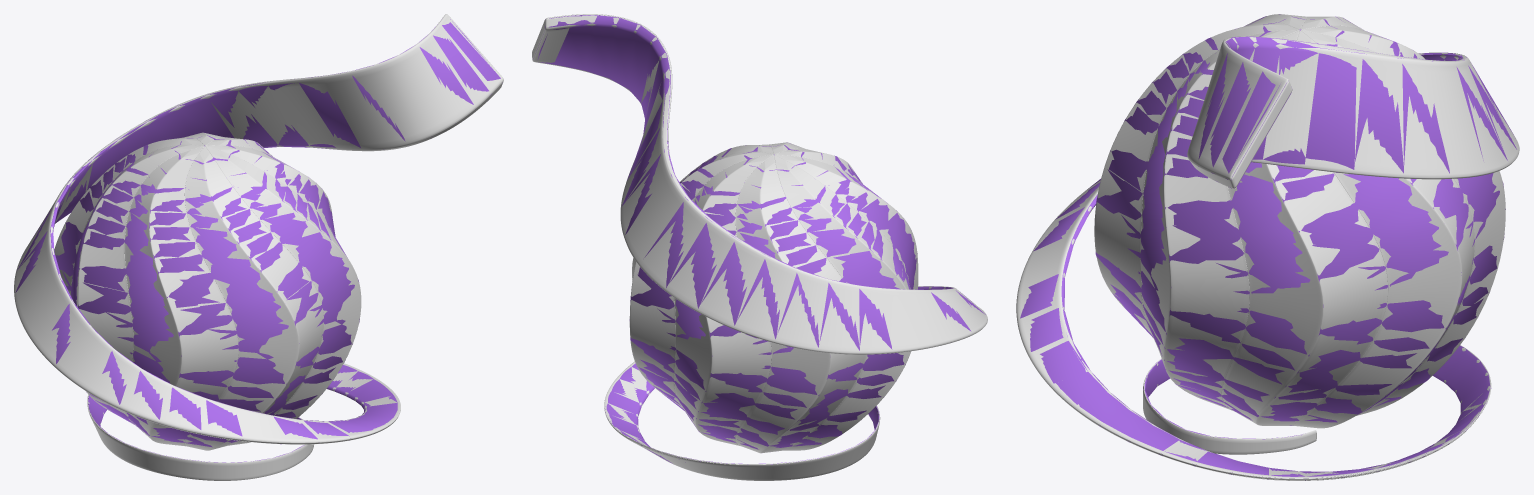
The model's file is RM Sphere decorative.fbx.
3 views of the same model, side by side, from view 1: azimuth 30°, elevation 25°; view 2: azimuth 150°, elevation 25°; view 3: azimuth 270°, elevation 25° (orthographic). The views are drawn at different scales.
Visible parts, largest first — view 1: Sphere decorative_LOD0, Sphere decorative_PHYS; view 2: Sphere decorative_LOD0, Sphere decorative_PHYS; view 3: Sphere decorative_LOD0, Sphere decorative_PHYS.
Part boxes in pixels (<box>): Sphere decorative_LOD0: <box>14,14,503,480</box>; Sphere decorative_PHYS: <box>15,19,500,462</box>; Sphere decorative_LOD0: <box>532,14,987,480</box>; Sphere decorative_PHYS: <box>533,15,985,464</box>; Sphere decorative_LOD0: <box>1016,14,1519,480</box>; Sphere decorative_PHYS: <box>1020,14,1516,480</box>.
Size of what is drawn, in the model's own units: 286 by 225 by 212.
